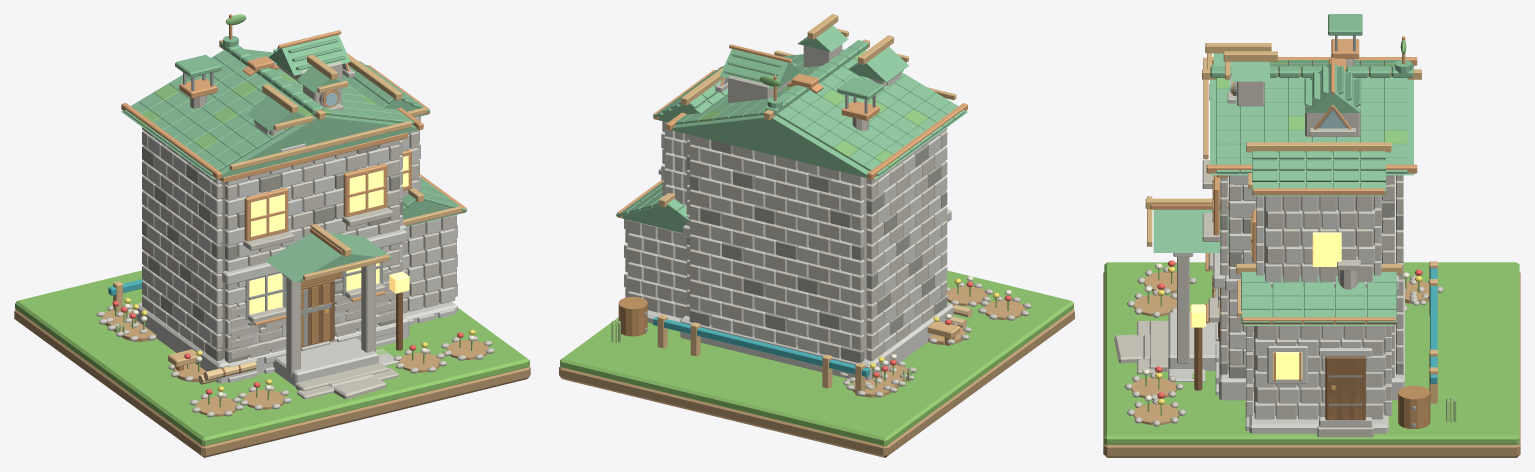
Rendered from stone_house_l05_active.glb.
3 renders of one model, left to right at view 1: azimuth 30°, elevation 25°; view 2: azimuth 150°, elevation 25°; view 3: azimuth 270°, elevation 25°, orthographic. The views are drawn at different scales.
Parts seen in each view (by area): view 1: stone_house_component_pilot_grass_tile, stone_house_component_pilot_earth_tile, pilot_stone_house_l05_roof_gable_roof, pilot_stone_house_l05_porch_canopy_gable_roof, pilot_stone_house_l05_porch_landing, pilot_stone_house_l05_spec_stone_block_medium_medium_foundat, pilot_stone_house_l05_porch_stone_column_-1, pilot_stone_house_l05_side_dormer_green_gable, pilot_stone_house_l05_roof_roof_front_trim, pilot_stone_house_l05_porch_stone_column_1, pilot_stone_house_l05_second_storey_second_floor_front_belt, pilot_stone_house_l05_second_storey_copper_top_cornice (+22 smaller); view 2: stone_house_component_pilot_grass_tile, stone_house_component_pilot_earth_tile, pilot_stone_house_l05_roof_gable_roof, pilot_stone_house_l05_spec_stone_block_medium_medium_foundat, pilot_stone_house_l05_yard_fence_rail, pilot_stone_house_l05_side_dormer_green_gable, pilot_stone_house_l05_roof_dormer_gable_roof, pilot_stone_house_l05_yard_barrel_barrel_body, pilot_stone_house_l05_right_annex_roof_gable_roof, pilot_stone_house_l05_side_dormer_stone_cheek, pilot_stone_house_l05_roof_eave_-1, pilot_stone_house_l05_decor_chimney_crown_cap (+5 smaller); view 3: stone_house_component_pilot_grass_tile, stone_house_component_pilot_earth_tile, pilot_stone_house_l05_annex_entry_door, pilot_stone_house_l05_porch_canopy_gable_roof, pilot_stone_house_l05_roof_gable_roof, pilot_stone_house_l05_porch_landing, pilot_stone_house_l05_upper_annex_roof_roof_ridge, pilot_stone_house_l05_porch_stone_column_1, pilot_stone_house_l05_right_annex_foundation_stone_block_low, pilot_stone_house_l05_yard_barrel_barrel_body, pilot_stone_house_l05_spec_stone_block_medium_medium_foundat, pilot_stone_house_l05_side_dormer_green_gable (+35 smaller).
Part boxes in pixels (<box>): stone_house_component_pilot_grass_tile: <box>15,270,529,445</box>; stone_house_component_pilot_earth_tile: <box>14,309,530,457</box>; pilot_stone_house_l05_roof_gable_roof: <box>121,50,417,179</box>; pilot_stone_house_l05_porch_canopy_gable_roof: <box>265,233,393,282</box>; pilot_stone_house_l05_porch_landing: <box>273,338,378,386</box>; pilot_stone_house_l05_spec_stone_block_medium_medium_foundat: <box>136,303,409,383</box>; pilot_stone_house_l05_porch_stone_column_-1: <box>286,278,300,377</box>; pilot_stone_house_l05_side_dormer_green_gable: <box>269,34,350,75</box>; pilot_stone_house_l05_roof_roof_front_trim: <box>229,121,411,170</box>; pilot_stone_house_l05_porch_stone_column_1: <box>361,264,375,352</box>; pilot_stone_house_l05_second_storey_second_floor_front_belt: <box>222,228,406,284</box>; pilot_stone_house_l05_second_storey_copper_top_cornice: <box>219,132,407,182</box>; stone_house_component_pilot_grass_tile: <box>560,270,1073,446</box>; stone_house_component_pilot_earth_tile: <box>559,309,1074,457</box>; pilot_stone_house_l05_roof_gable_roof: <box>671,50,967,179</box>; pilot_stone_house_l05_spec_stone_block_medium_medium_foundat: <box>680,303,953,380</box>; pilot_stone_house_l05_yard_fence_rail: <box>653,316,869,376</box>; pilot_stone_house_l05_side_dormer_green_gable: <box>720,49,801,89</box>; pilot_stone_house_l05_roof_dormer_gable_roof: <box>848,47,908,82</box>; pilot_stone_house_l05_yard_barrel_barrel_body: <box>618,296,647,336</box>; pilot_stone_house_l05_right_annex_roof_gable_roof: <box>618,205,686,232</box>; pilot_stone_house_l05_side_dormer_stone_cheek: <box>728,75,792,102</box>; pilot_stone_house_l05_roof_eave_-1: <box>867,103,967,179</box>; pilot_stone_house_l05_decor_chimney_crown_cap: <box>837,77,883,100</box>; stone_house_component_pilot_grass_tile: <box>1104,262,1519,444</box>; stone_house_component_pilot_earth_tile: <box>1103,272,1520,457</box>; pilot_stone_house_l05_annex_entry_door: <box>1325,356,1365,420</box>; pilot_stone_house_l05_porch_canopy_gable_roof: <box>1153,209,1228,252</box>; pilot_stone_house_l05_roof_gable_roof: <box>1210,64,1413,175</box>; pilot_stone_house_l05_porch_landing: <box>1168,312,1218,370</box>; pilot_stone_house_l05_upper_annex_roof_roof_ridge: <box>1246,142,1391,152</box>; pilot_stone_house_l05_porch_stone_column_1: <box>1177,257,1189,363</box>; pilot_stone_house_l05_right_annex_foundation_stone_block_low: <box>1249,392,1388,433</box>; pilot_stone_house_l05_yard_barrel_barrel_body: <box>1398,385,1430,428</box>; pilot_stone_house_l05_spec_stone_block_medium_medium_foundat: <box>1219,280,1404,400</box>; pilot_stone_house_l05_side_dormer_green_gable: <box>1305,63,1360,112</box>.
Bounding box in the file's own units: 3.6 × 3.19 × 3.6.
